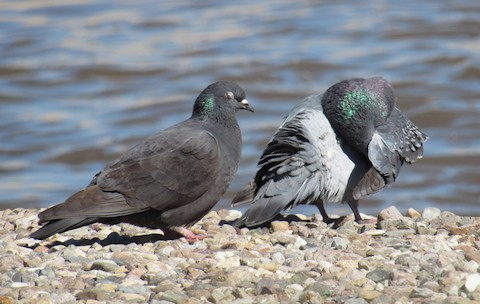pigeon: (26, 69, 257, 251), (225, 72, 449, 240)
